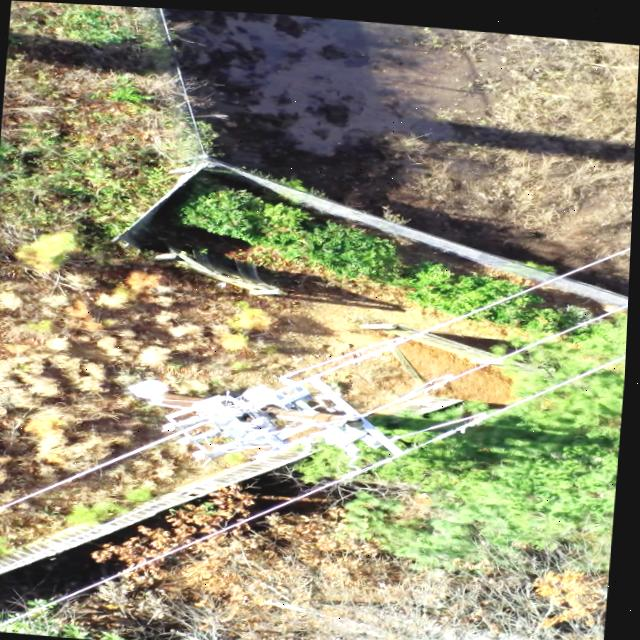poles: (149, 372, 409, 460)
wires: (0, 467, 359, 633), (350, 294, 631, 412), (0, 437, 163, 511), (480, 345, 629, 413), (507, 238, 633, 292), (406, 297, 494, 335), (495, 265, 570, 297), (437, 297, 495, 322), (597, 238, 633, 255), (274, 596, 312, 607), (437, 420, 464, 434), (296, 370, 323, 382), (195, 634, 226, 640), (420, 434, 436, 441)
